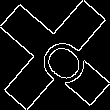O_NW: (22, 22, 88, 88)
